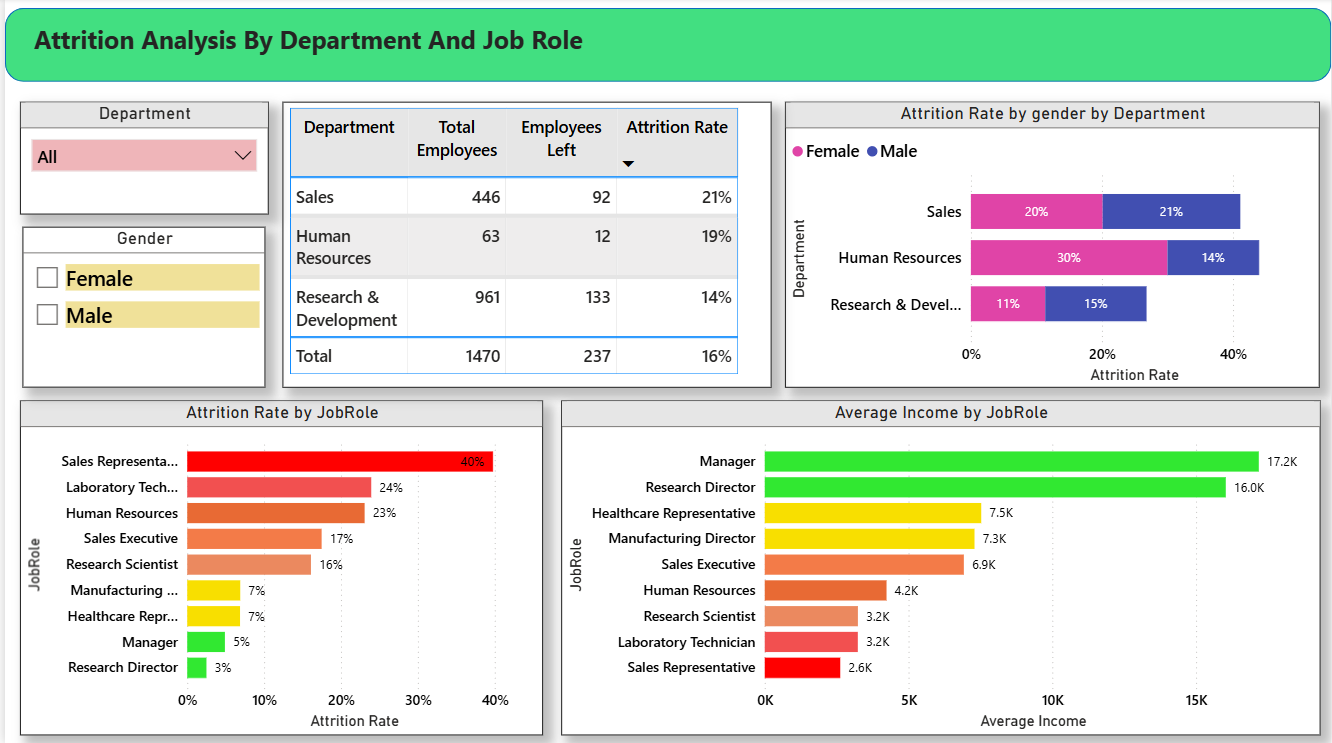

The dashboard page shown, as its layout file describes it:
{"tool":"powerbi","page":{"name":"Department and Job role Impact","canvas":[1280,720],"ordinal":1},"visuals":[{"type":"barChart","title":"Attrition Rate by JobRole","fields":{"Category":["HR-Employee-Attrition.JobRole"],"Y":["HR-Employee-Attrition.Attrition Rate"]},"box":[14.7,388.9,505,322.8],"z":0},{"type":"barChart","title":"Attrition Rate by gender by Department","fields":{"Category":["HR-Employee-Attrition.Department"],"Series":["HR-Employee-Attrition.Gender"],"Y":["HR-Employee-Attrition.Attrition Rate"]},"box":[753.3,100.3,516,276.4],"z":1000},{"type":"tableEx","fields":{"Values":["HR-Employee-Attrition.Department","HR-Employee-Attrition.Total Employees","HR-Employee-Attrition.Employees Left","HR-Employee-Attrition.Attrition Rate"]},"box":[267.8,100.3,472,276.4],"z":2000},{"type":"slicer","title":"Department","fields":{"Values":["HR-Employee-Attrition.Department"]},"box":[14.7,100.3,239.7,108.8],"z":3000},{"type":"slicer","title":"Gender","fields":{"Values":["HR-Employee-Attrition.Gender"]},"box":[17.1,221.3,234.8,155.3],"z":4000},{"type":"shape","box":[0,9.7,1280,71.2],"z":5000},{"type":"textbox","box":[22.9,19.3,1233,53.1],"z":6000},{"type":"barChart","title":"Average Income by JobRole","fields":{"Category":["HR-Employee-Attrition.JobRole"],"Y":["HR-Employee-Attrition.Average Income"]},"box":[536.8,388.9,732.5,322.8],"z":7000}]}

Visuals, with their boxes in screenshot pixels (x1, y1, x2, y2), scaled from the page's 1280x720 canvas onto the 1332x743 screenshot:
"Attrition Rate by JobRole" barChart: x1=15, y1=401, x2=541, y2=734
"Attrition Rate by gender by Department" barChart: x1=784, y1=104, x2=1321, y2=389
tableEx - HR-Employee-Attrition.Department x HR-Employee-Attrition.Total Employees: x1=279, y1=104, x2=770, y2=389
"Department" slicer: x1=15, y1=104, x2=265, y2=216
"Gender" slicer: x1=18, y1=228, x2=262, y2=389
shape: x1=0, y1=10, x2=1331, y2=83
textbox: x1=24, y1=20, x2=1307, y2=75
"Average Income by JobRole" barChart: x1=559, y1=401, x2=1321, y2=734
